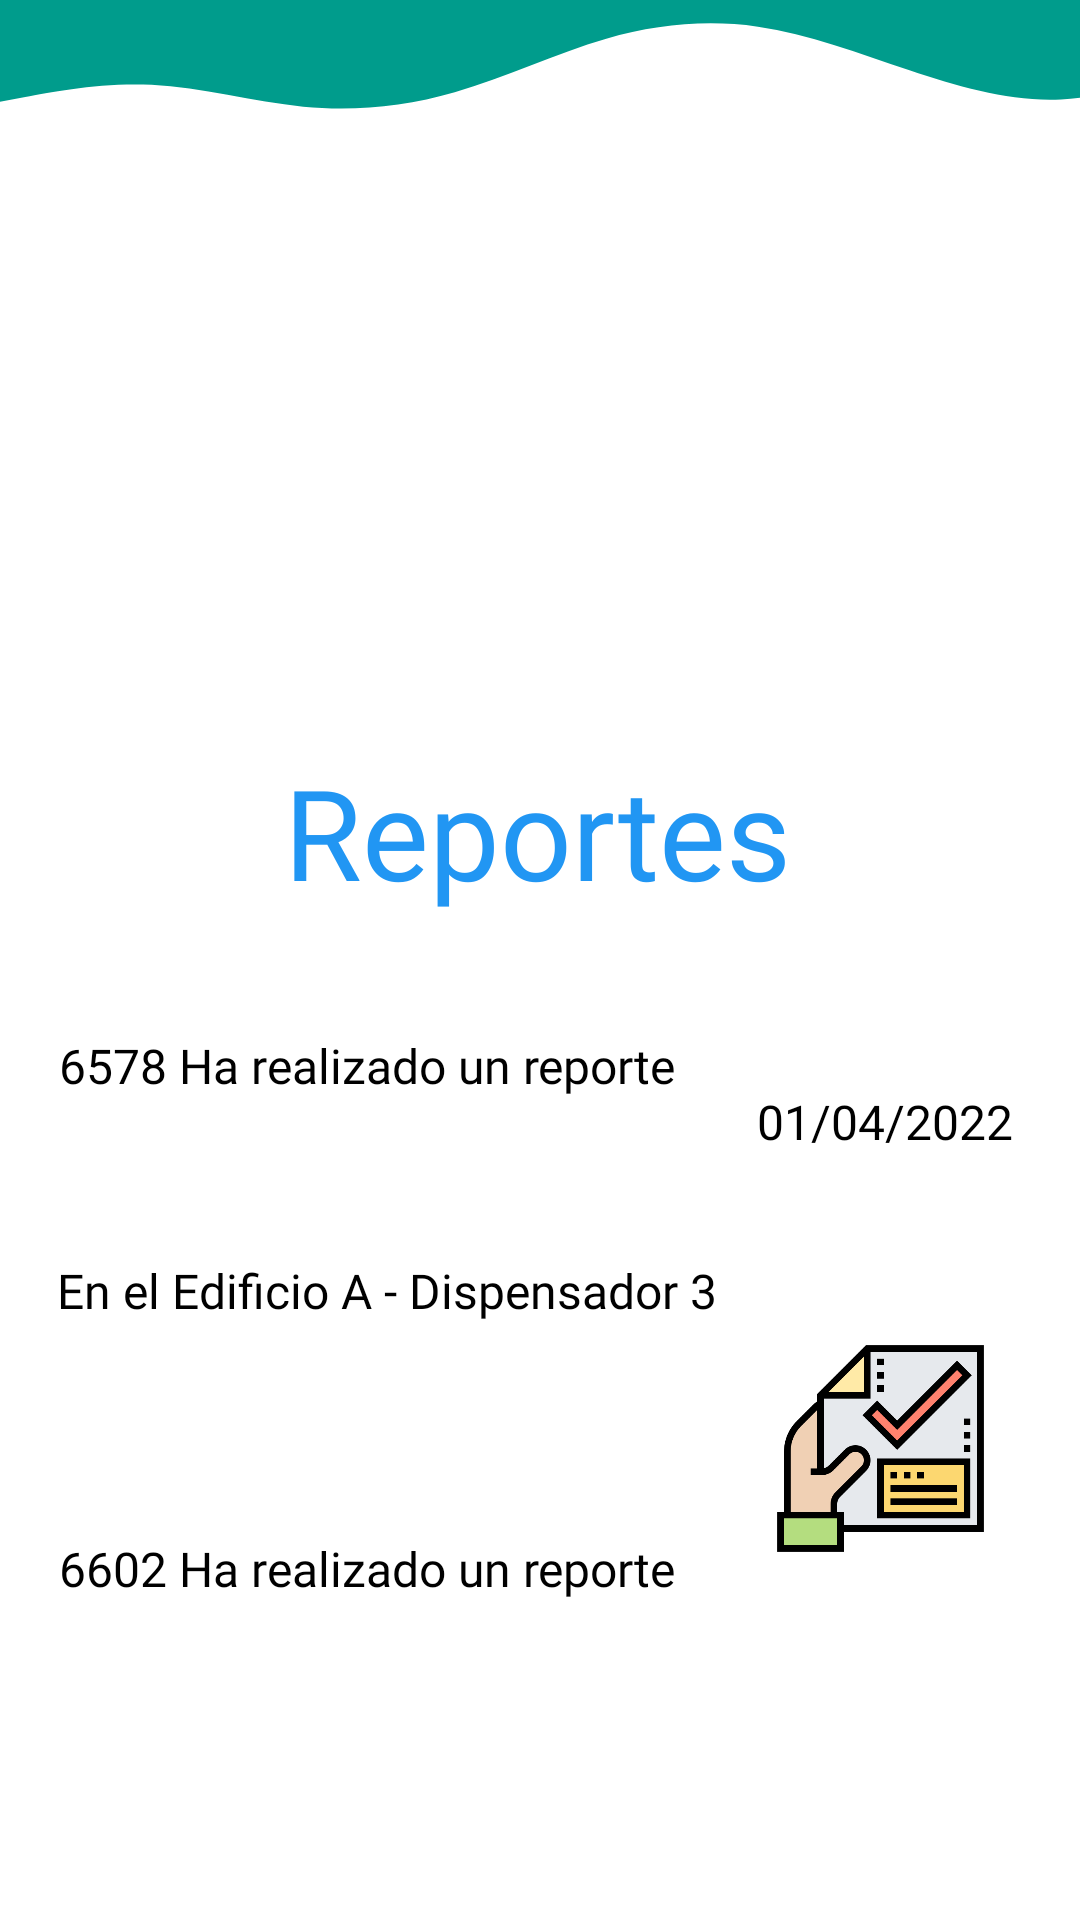

Named icons in this screenshot (1080w x 1920h) and their bounding boxes, (x1, y1, x2, y2):
voto: (777, 1345, 984, 1552)
